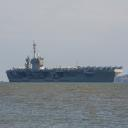Portanaves: (6, 40, 125, 84)
